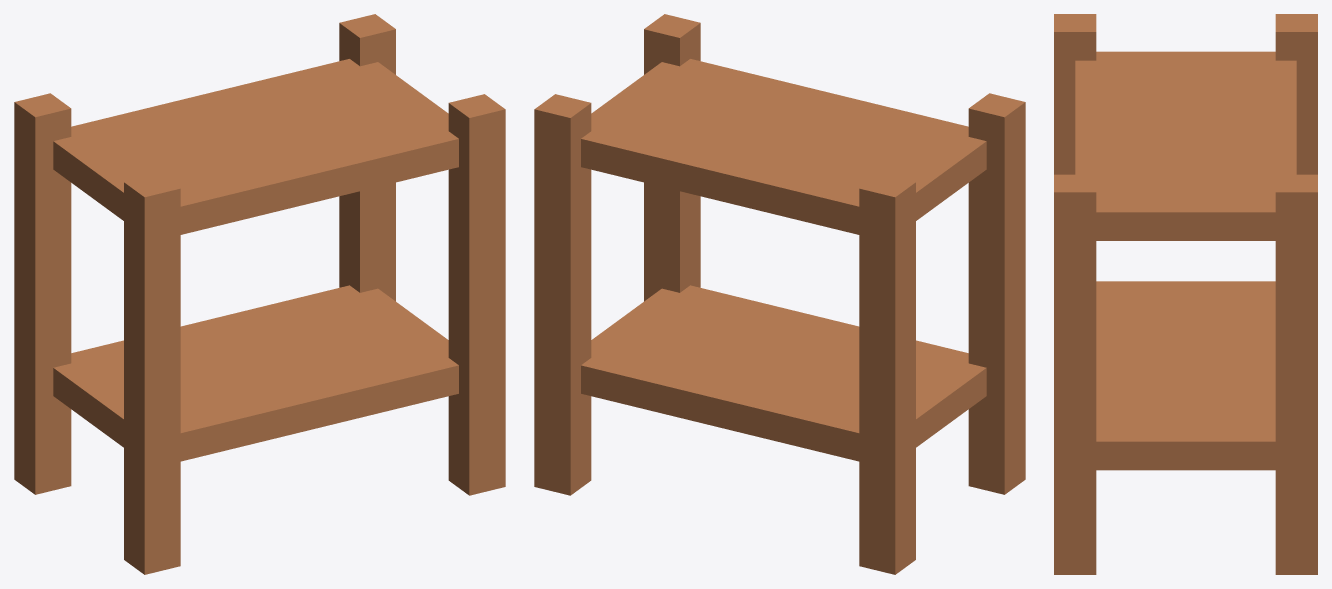
Rendered from furn_bookcaseOpenLow.glb.
The picture shows the model from 3 angles, left to right: view 1: azimuth 30°, elevation 25°; view 2: azimuth 150°, elevation 25°; view 3: azimuth 270°, elevation 25°; orthographic projection.
Visible parts, largest first — view 1: bookcaseOpenLow(Clone); view 2: bookcaseOpenLow(Clone); view 3: bookcaseOpenLow(Clone).
Boxes of the visible parts, x1,y1,x2,y2 form: bookcaseOpenLow(Clone): [14, 14, 505, 574]; bookcaseOpenLow(Clone): [534, 14, 1025, 574]; bookcaseOpenLow(Clone): [1054, 14, 1317, 574].
Size of the model in its own units: 0.4 by 0.4 by 0.25.
